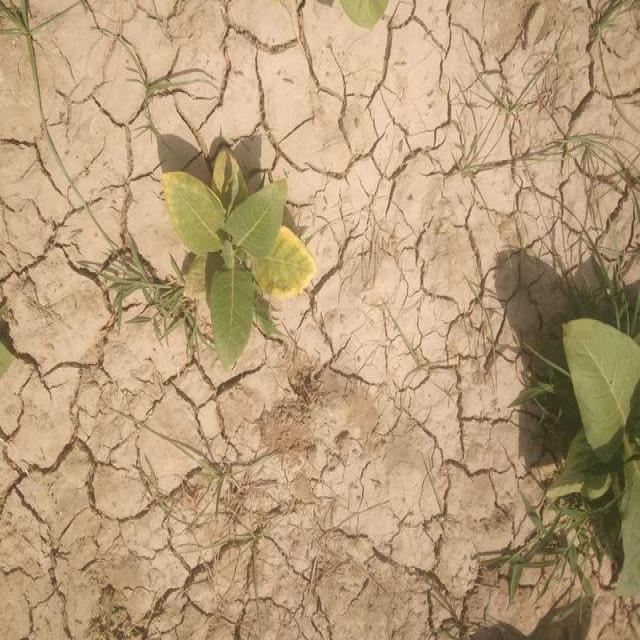crop: (162, 166, 306, 360)
